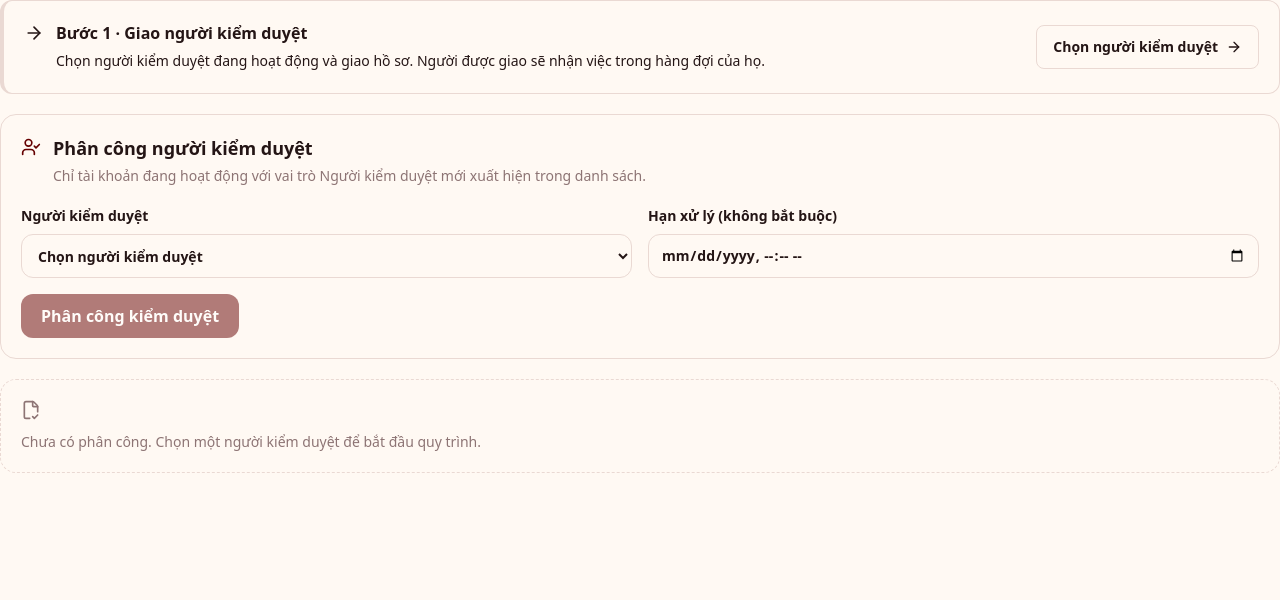
ReviewLifecyclePanel › explains the admin handoff and the next place to track review
Expected: the heading "Bước 1 · Giao người kiểm duyệt" is shown, 56,22 -> 307,44
Select "specialist@cns.vn" in the dropdown labelled "Người kiểm duyệt". click: (326, 256)
box: 21,234 -> 632,278
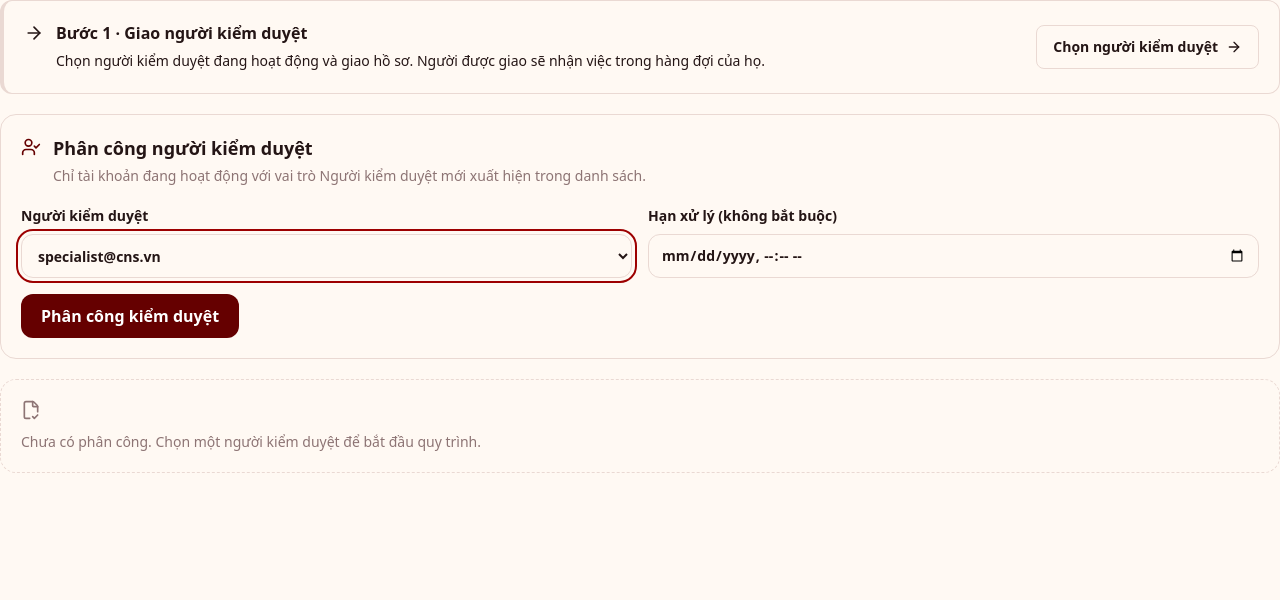
Click the button "Phân công kiểm duyệt". click: (130, 316)
box: 21,294 -> 239,338
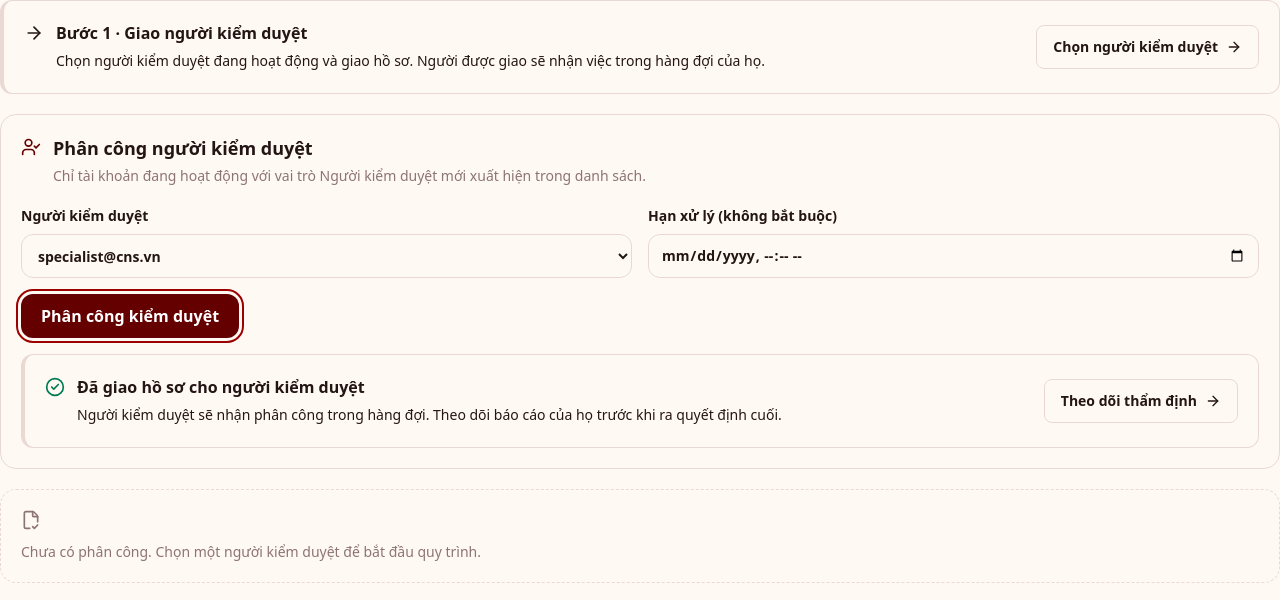
Now the heading "Đã giao hồ sơ cho người kiểm duyệt" is shown, box 77,376 -> 365,398
Now the text "sẽ nhận phân công trong hàng đợi" is shown, box 77,405 -> 782,424
